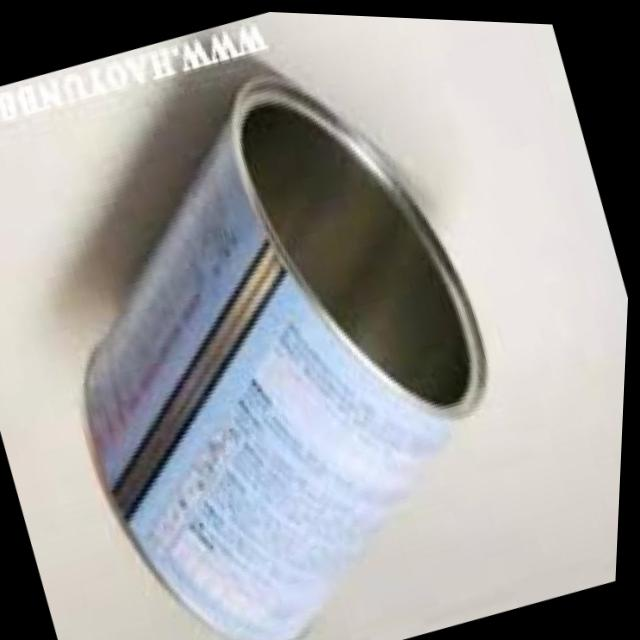metal: (0, 15, 601, 639)
